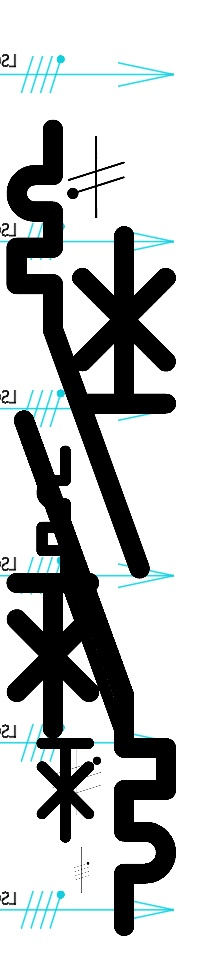interruptor_termomagnetico: (6, 218, 184, 944), (1, 114, 155, 744), (32, 441, 131, 847)
